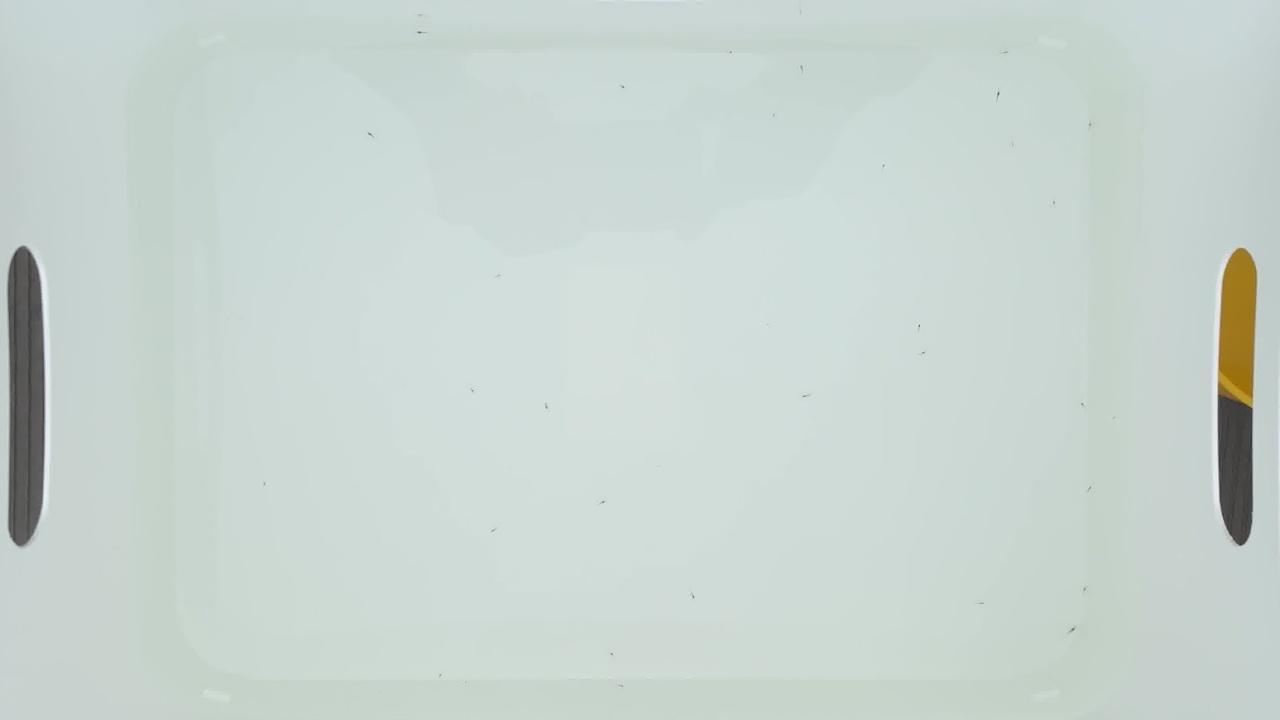shrimp: (542, 401, 555, 409), (434, 672, 447, 680), (768, 113, 781, 121), (1000, 46, 1013, 54), (1008, 140, 1021, 148), (1108, 412, 1121, 420), (1082, 490, 1095, 498), (1078, 584, 1091, 592), (978, 600, 991, 608), (416, 30, 429, 37), (416, 12, 429, 19), (616, 85, 629, 92), (363, 134, 376, 141), (492, 273, 505, 280), (466, 389, 479, 396), (256, 482, 269, 489), (485, 525, 498, 532), (613, 683, 626, 690), (607, 649, 620, 656), (593, 497, 606, 504), (687, 590, 700, 597), (804, 391, 817, 398), (921, 350, 934, 357), (914, 320, 927, 327), (723, 50, 736, 57), (797, 64, 810, 71), (990, 95, 1003, 102), (1087, 120, 1100, 127), (1046, 203, 1059, 210), (876, 165, 889, 172), (501, 236, 513, 243), (1077, 403, 1089, 410), (1067, 628, 1079, 635)
